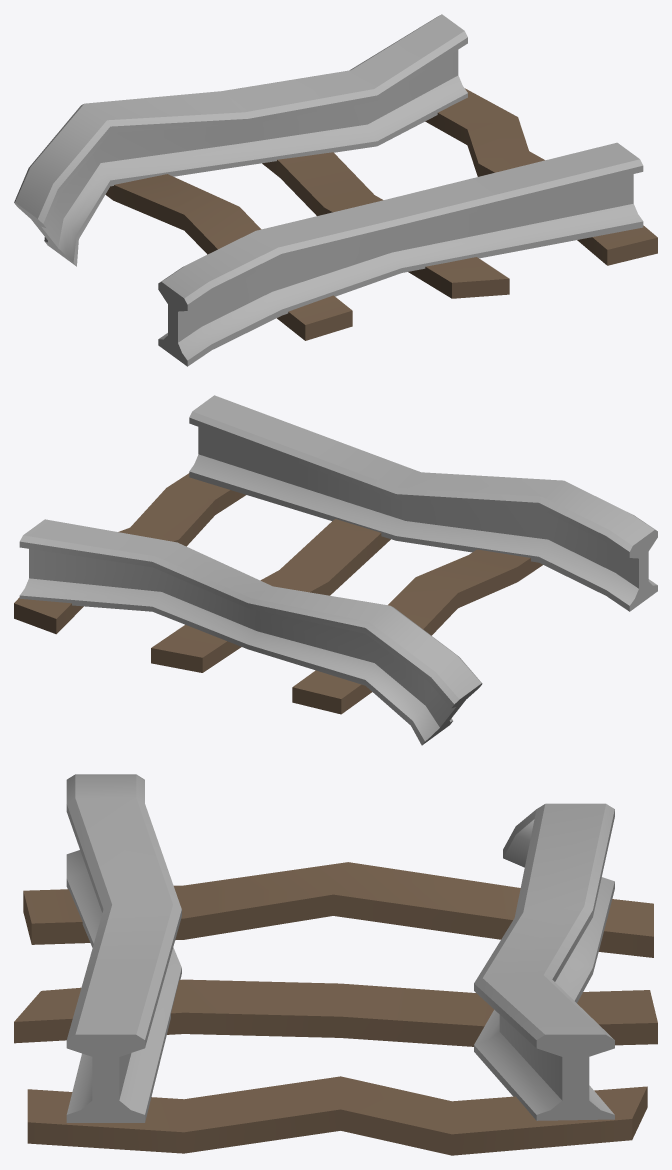
The model's file is Rails_01.fbx.
3 renders of one model, top to bottom at view 1: azimuth 30°, elevation 25°; view 2: azimuth 150°, elevation 25°; view 3: azimuth 270°, elevation 25°, orthographic. The views are drawn at different scales.
Visible parts, largest first — view 1: Rail_1, Rail_2, Wood1, Wood3, Wood2; view 2: Rail_1, Rail_2, Wood1, Wood2, Wood3; view 3: Rail_2, Rail_1, Wood3, Wood1, Wood2.
Boxes of the visible parts, <box> form: Rail_1: <box>158,142,643,366</box>; Rail_2: <box>14,14,467,266</box>; Wood1: <box>105,174,352,340</box>; Wood3: <box>425,88,657,265</box>; Wood2: <box>262,152,509,298</box>; Rail_1: <box>189,395,657,611</box>; Rail_2: <box>19,519,482,745</box>; Wood1: <box>292,549,542,714</box>; Wood2: <box>151,519,390,672</box>; Wood3: <box>14,473,245,634</box>; Rail_2: <box>474,803,614,1120</box>; Rail_1: <box>66,774,181,1122</box>; Wood3: <box>27,1076,647,1155</box>; Wood1: <box>23,862,653,957</box>; Wood2: <box>14,979,657,1046</box>.
Bounding box in the file's own units: 9.37 × 2.38 × 8.22.
